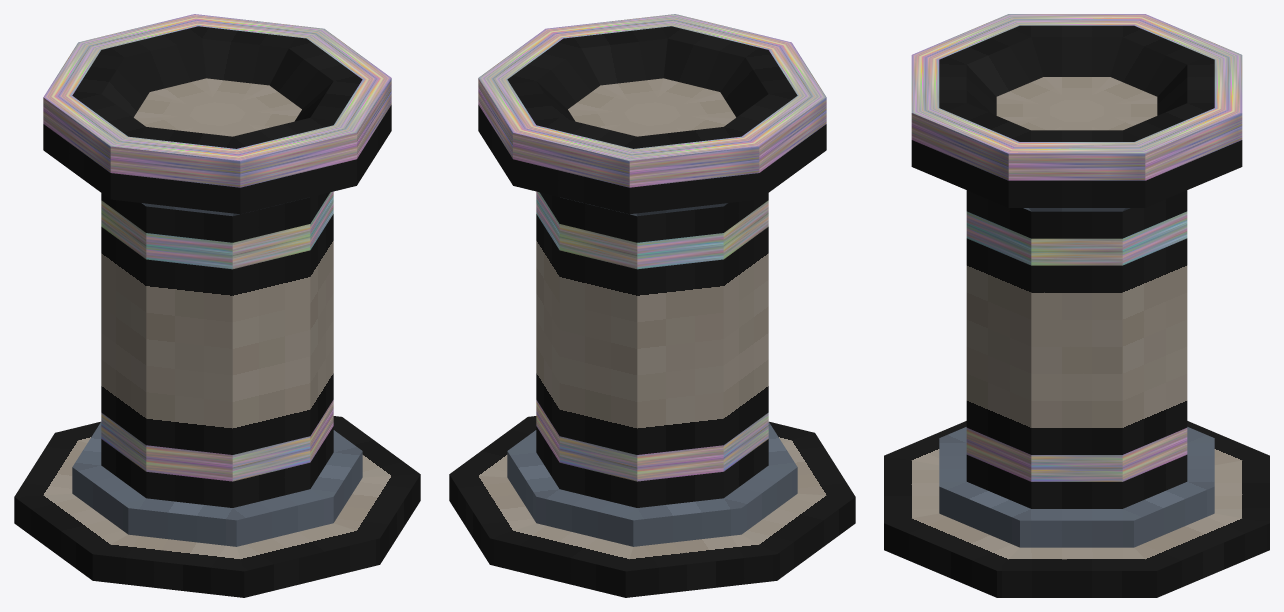
File: pedestal_main.obj
The picture shows the model from 3 angles, left to right: view 1: azimuth 30°, elevation 25°; view 2: azimuth 150°, elevation 25°; view 3: azimuth 270°, elevation 25°; orthographic projection.
Parts seen in each view (by area): view 1: PEDESTAL_Cylinder.001; view 2: PEDESTAL_Cylinder.001; view 3: PEDESTAL_Cylinder.001.
Part boxes in pixels (left/top/right/bottom): PEDESTAL_Cylinder.001: left=14, top=14, right=420, bottom=597; PEDESTAL_Cylinder.001: left=449, top=14, right=855, bottom=597; PEDESTAL_Cylinder.001: left=884, top=14, right=1269, bottom=597.
Bounding box in the file's own units: 0.8084 × 1 × 0.8084.
